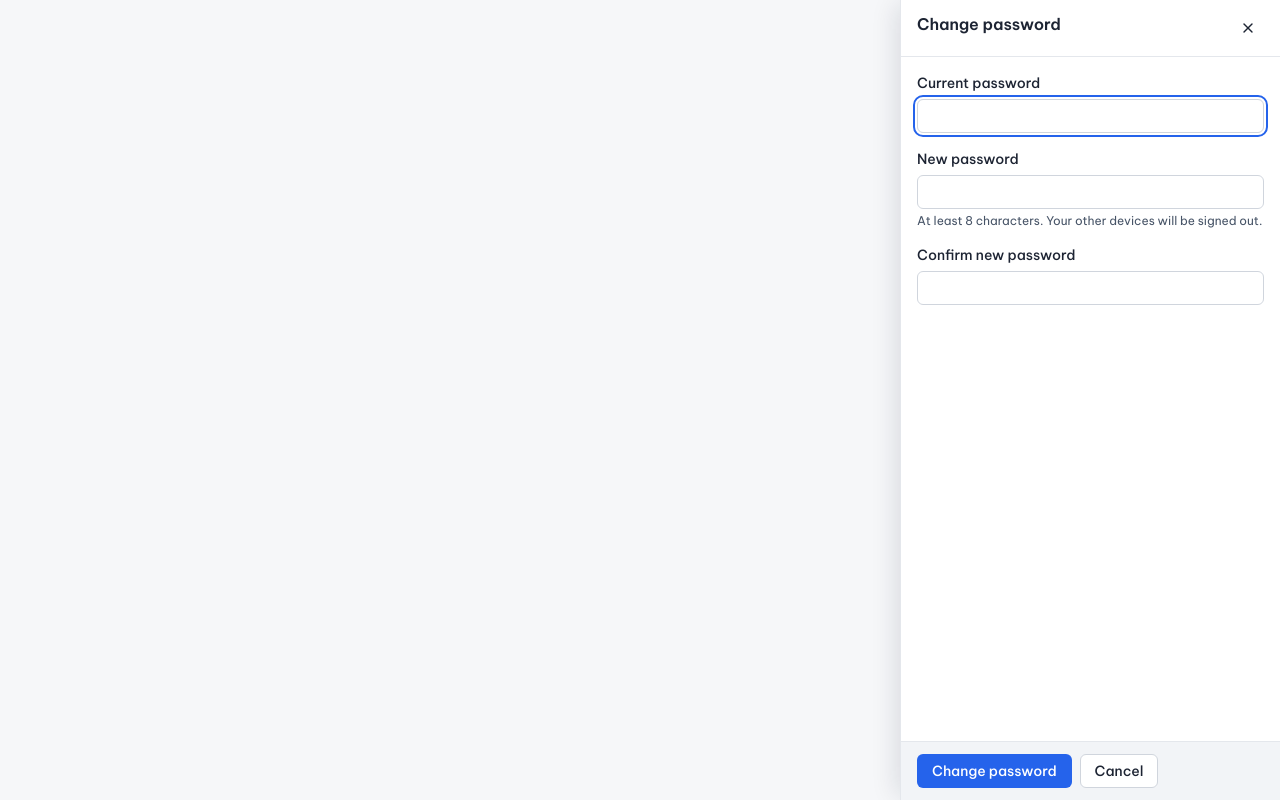
Test: ChangePasswordDrawer › sends the current and the new password, then empties the fields
Type "Old-Pass-1" into the password field labelled "Current password". click: (1090, 116)
box: x1=917 y1=99 x2=1264 y2=133
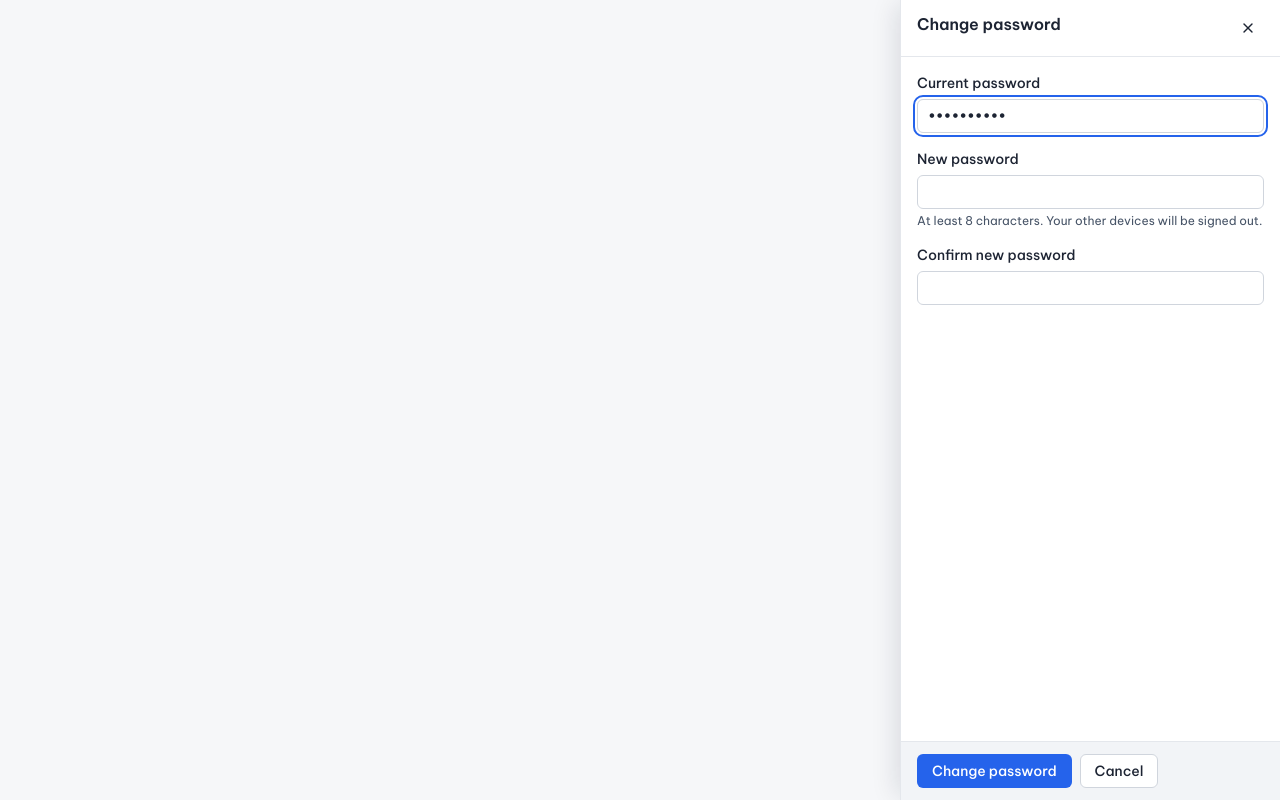
Type "Brand-New-2" into the password field labelled "New password". click: (1090, 192)
box: x1=917 y1=175 x2=1264 y2=209
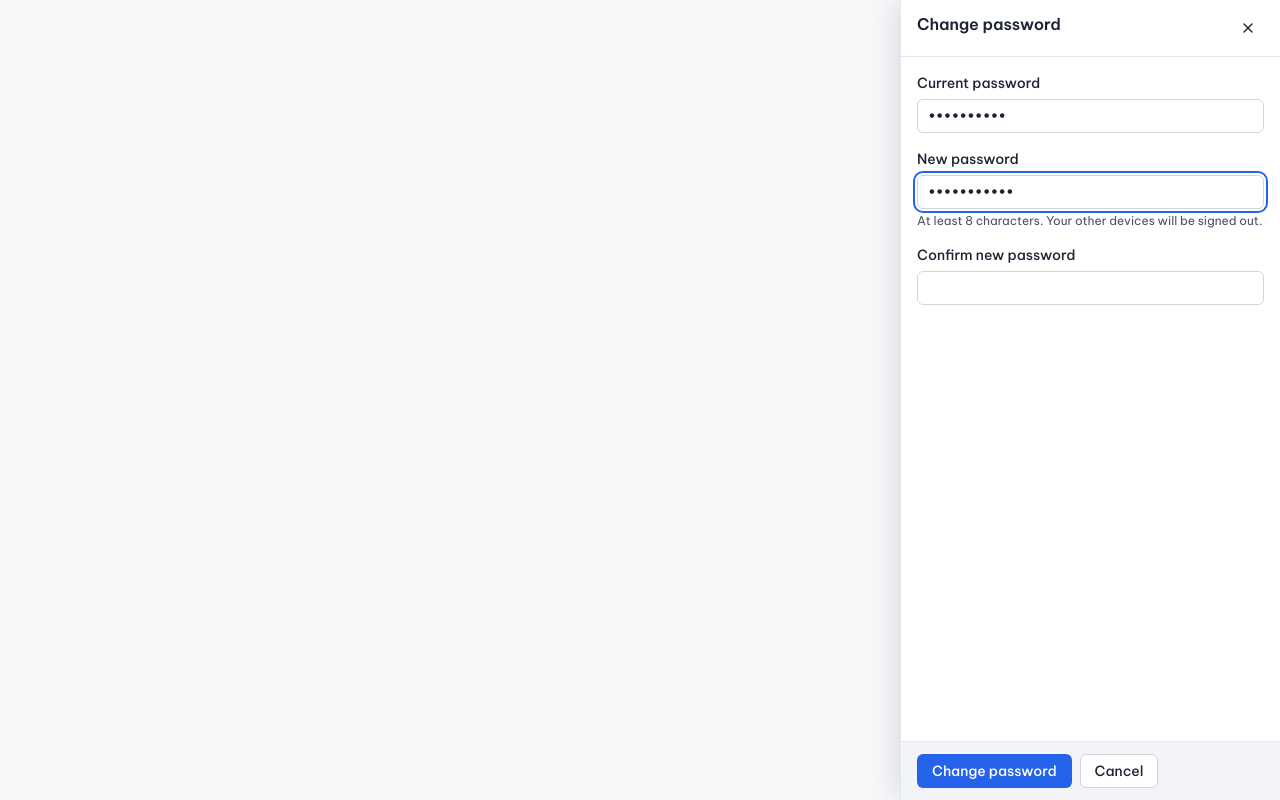
Type "Brand-New-2" into the password field labelled "Confirm new password". click: (1090, 288)
box: x1=917 y1=271 x2=1264 y2=305
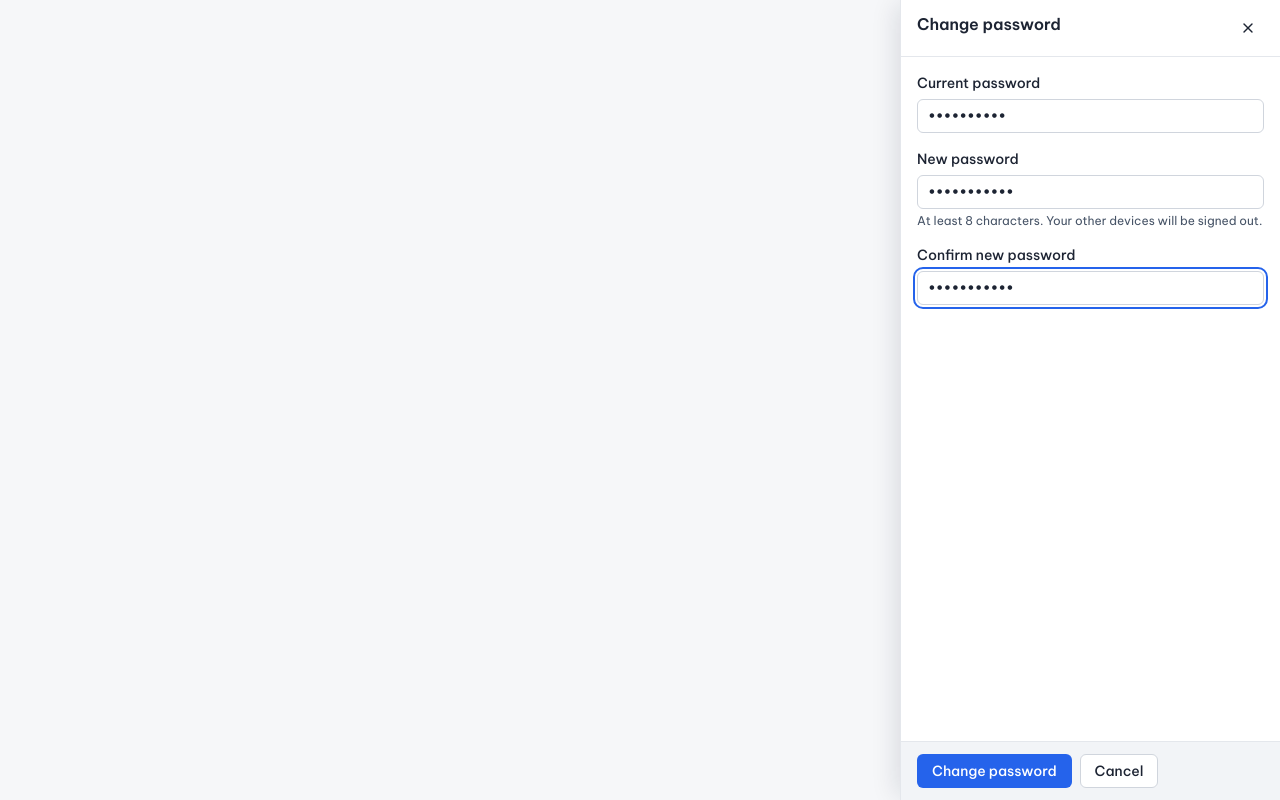
Click the button "Change password". click: (994, 771)
box: x1=917 y1=754 x2=1072 y2=788
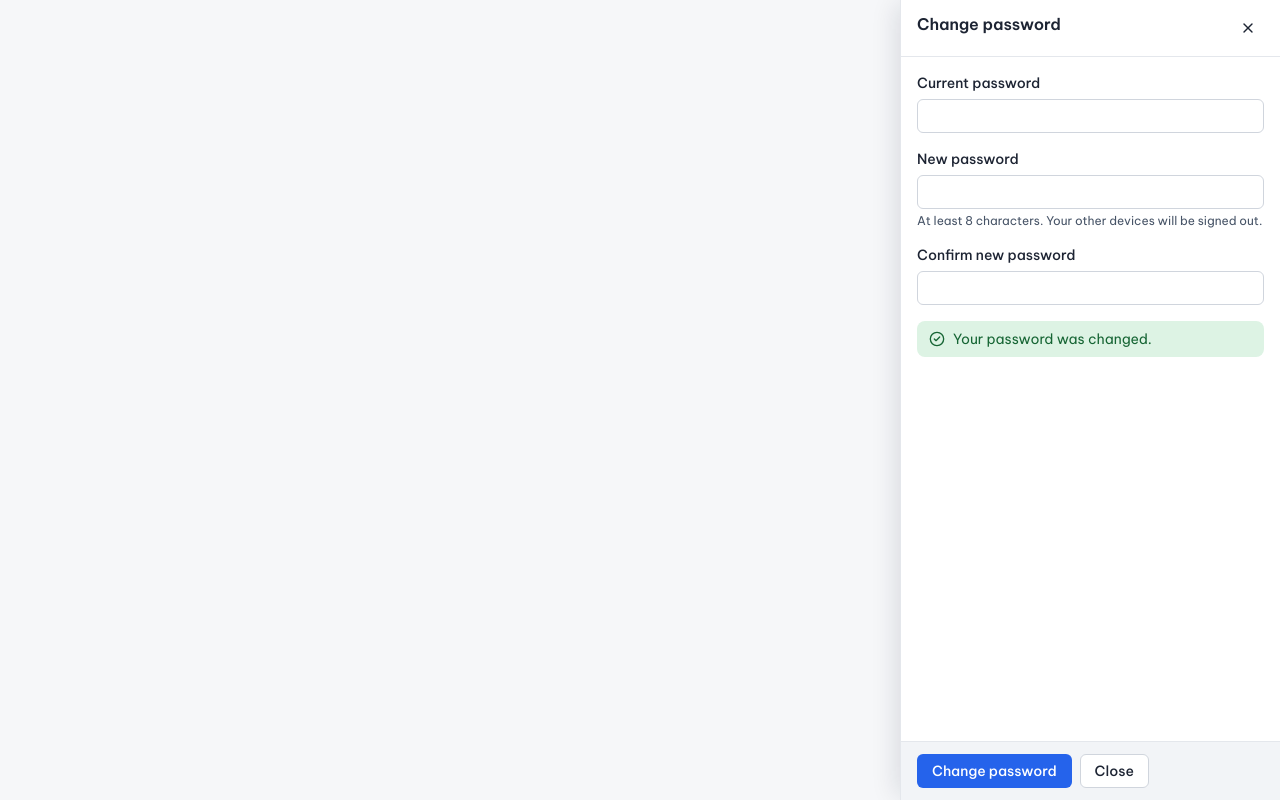
Expected: the message reads "Your password was changed.", x1=953 y1=330 x2=1152 y2=348
Expected: the password field labelled "Current password" is empty, x1=917 y1=99 x2=1264 y2=133
Expected: the password field labelled "New password" is empty, x1=917 y1=175 x2=1264 y2=209
